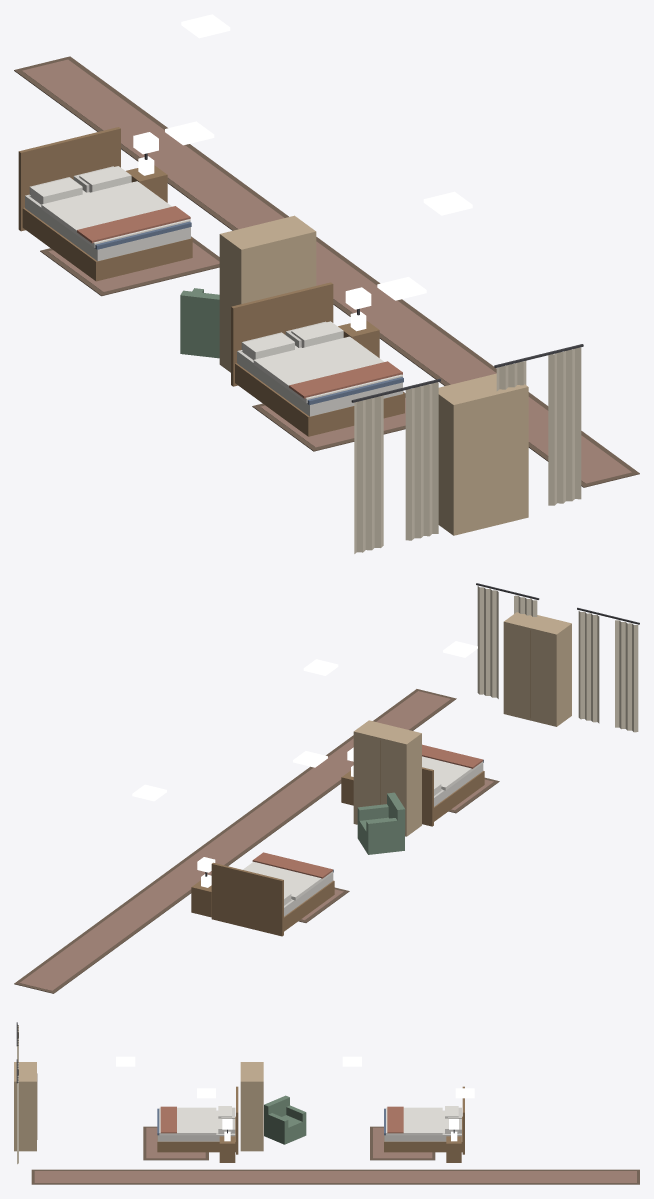
File: fine-s2.glb
3 renders of one model, top to bottom at view 1: azimuth 30°, elevation 25°; view 2: azimuth 150°, elevation 25°; view 3: azimuth 270°, elevation 25°, orthographic. The views are drawn at different scales.
Parts seen in each view (by area): view 1: soft-s2, dresser.003, bed-frame.002, bed-frame.003, dresser.002, lounge-chair.001, nightstand.002, nightstand.003, ceiling-lamp.008, ceiling-lamp.007, ceiling-lamp.006; view 2: soft-s2, dresser.003, dresser.002, bed-frame.002, lounge-chair.001, bed-frame.003, nightstand.002; view 3: soft-s2, dresser.002, dresser.003, lounge-chair.001, bed-frame.003, bed-frame.002, nightstand.003, nightstand.002.
Part boxes in pixels (x1=…): soft-s2: x1=14, y1=56, x2=639, y2=553; dresser.003: x1=438, y1=373, x2=528, y2=535; bed-frame.002: x1=18, y1=127, x2=192, y2=281; bed-frame.003: x1=231, y1=282, x2=404, y2=436; dresser.002: x1=219, y1=215, x2=316, y2=372; lounge-chair.001: x1=180, y1=288, x2=219, y2=358; nightstand.002: x1=126, y1=156, x2=167, y2=202; nightstand.003: x1=338, y1=311, x2=379, y2=357; ceiling-lamp.008: x1=165, y1=121, x2=214, y2=145; ceiling-lamp.007: x1=423, y1=191, x2=472, y2=215; ceiling-lamp.006: x1=181, y1=14, x2=230, y2=38; soft-s2: x1=14, y1=583, x2=639, y2=993; dresser.003: x1=503, y1=612, x2=571, y2=726; dresser.002: x1=353, y1=720, x2=421, y2=836; bed-frame.002: x1=211, y1=862, x2=334, y2=936; lounge-chair.001: x1=357, y1=792, x2=405, y2=854; bed-frame.003: x1=422, y1=759, x2=484, y2=826; nightstand.002: x1=191, y1=874, x2=211, y2=917; soft-s2: x1=16, y1=1022, x2=639, y2=1184; dresser.002: x1=240, y1=1062, x2=263, y2=1151; dresser.003: x1=14, y1=1062, x2=37, y2=1151; lounge-chair.001: x1=264, y1=1095, x2=306, y2=1144; bed-frame.003: x1=157, y1=1086, x2=238, y2=1154; bed-frame.002: x1=384, y1=1086, x2=464, y2=1154; nightstand.003: x1=219, y1=1131, x2=235, y2=1162; nightstand.002: x1=446, y1=1131, x2=461, y2=1162.
Size of the model in its own units: 4.83 by 2.44 by 16.26.
